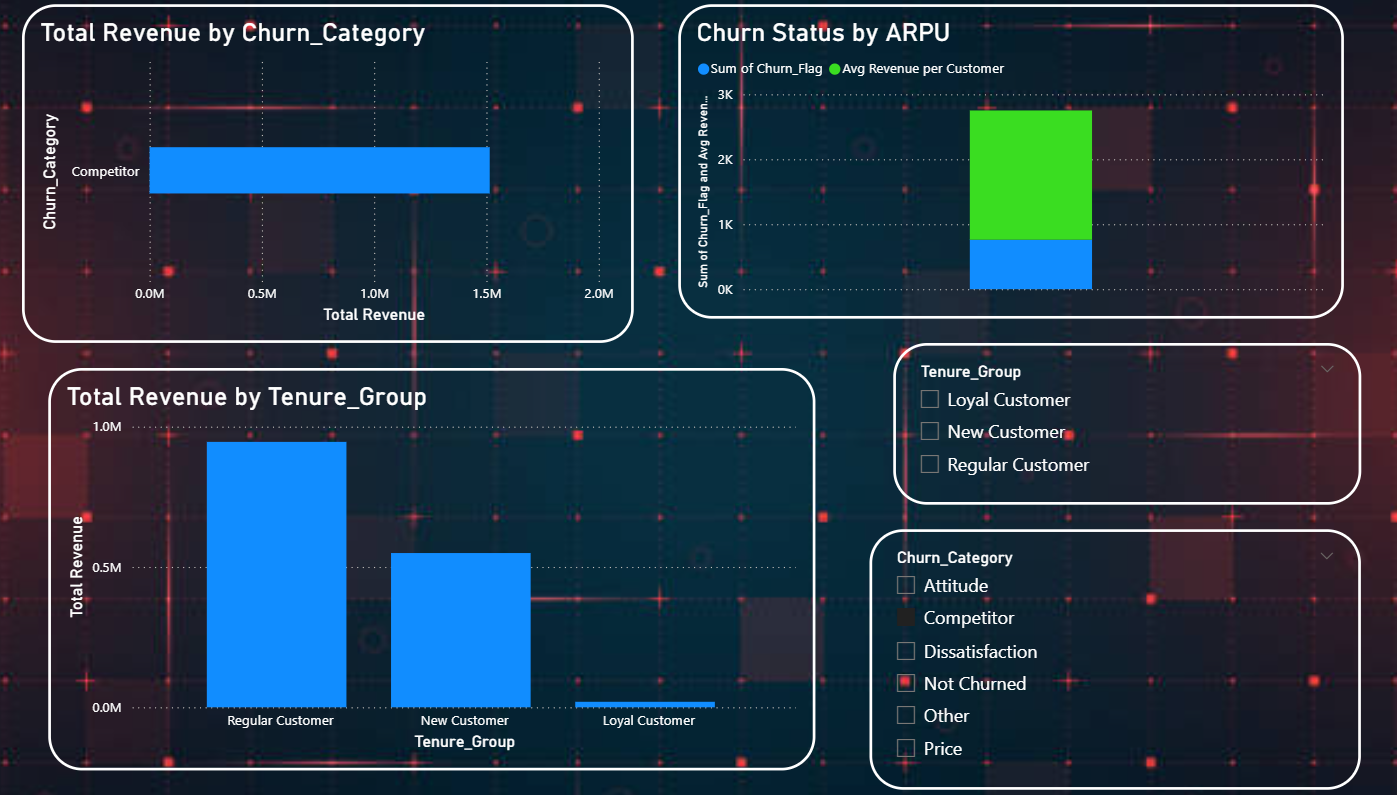

Layout of this report page (visuals, bound fields, positions):
{"tool":"powerbi","page":{"name":" Revenue Impact & Business Impact Analysis dashboard 3","canvas":[1280,720],"ordinal":2},"visuals":[{"type":"clusteredBarChart","fields":{"Y":["Customer_Data csv (2).Total Revenue"],"Category":["Customer_Data csv (2).Churn_Category"]},"box":[35.7,9.6,544.8,301.9],"z":0},{"type":"columnChart","title":"Churn Status by ARPU","fields":{"Y":["Sum(Customer_Data csv (2).Churn_Flag)","Customer_Data csv (2).Avg Revenue per Customer"]},"box":[620.2,9.6,592.8,279.9],"z":1000},{"type":"clusteredColumnChart","fields":{"Y":["Customer_Data csv (2).Total Revenue"],"Category":["Customer_Data csv (2).Tenure_Group"]},"box":[59,333.4,683.4,358.1],"z":1001},{"type":"slicer","fields":{"Values":["Customer_Data csv (2).Tenure_Group"]},"box":[811,311.5,417.2,144.1],"z":1002},{"type":"slicer","fields":{"Values":["Customer_Data csv (2).Churn_Category"]},"box":[790.4,477.5,437.7,231.9],"z":1003}]}

Visuals, with their boxes in screenshot pixels (x1, y1, x2, y2), scaled from the page's 1280x720 canvas onto the 1397x795 screenshot:
clusteredBarChart - Customer_Data csv (2).Total Revenue x Customer_Data csv (2).Churn_Category: {"left": 39, "top": 11, "right": 634, "bottom": 344}
"Churn Status by ARPU" columnChart: {"left": 677, "top": 11, "right": 1324, "bottom": 320}
clusteredColumnChart - Customer_Data csv (2).Total Revenue x Customer_Data csv (2).Tenure_Group: {"left": 64, "top": 368, "right": 810, "bottom": 764}
slicer - Customer_Data csv (2).Tenure_Group: {"left": 885, "top": 344, "right": 1340, "bottom": 503}
slicer - Customer_Data csv (2).Churn_Category: {"left": 863, "top": 527, "right": 1340, "bottom": 783}
